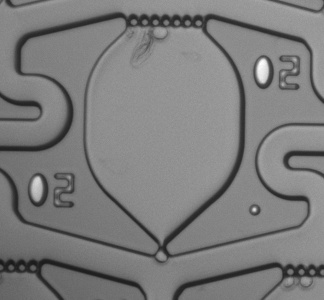AptNum: (244, 51, 306, 96)
Marker: (240, 197, 270, 224)
StNum: (21, 167, 83, 217)
Trap: (140, 245, 184, 290)
